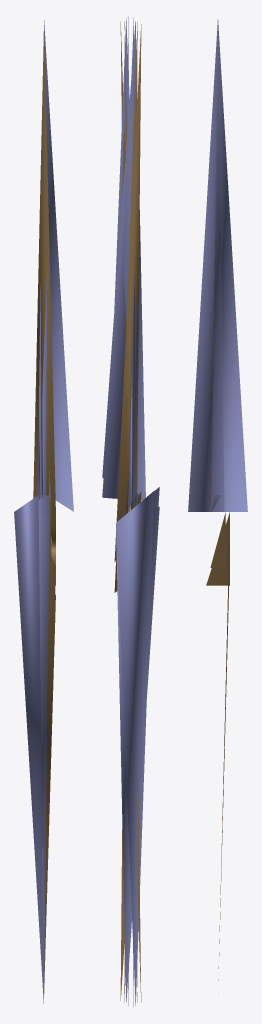
Rendered from equip_weapon_mithril_scimitar.glb.
3 renders of one model, left to right at view 1: azimuth 90°, elevation 25°; view 2: azimuth 150°, elevation 25°; view 3: azimuth 270°, elevation 25°, orthographic.
Visible parts, largest first — view 1: equip_weapon_mithril_scimitar; view 2: equip_weapon_mithril_scimitar; view 3: equip_weapon_mithril_scimitar.
Boxes of the visible parts, bbox=[...] form: equip_weapon_mithril_scimitar: bbox=[14, 20, 73, 1003]; equip_weapon_mithril_scimitar: bbox=[102, 16, 159, 1007]; equip_weapon_mithril_scimitar: bbox=[188, 20, 247, 993].
Bounding box in the file's own units: 0.11 × 2 × 0.11.
